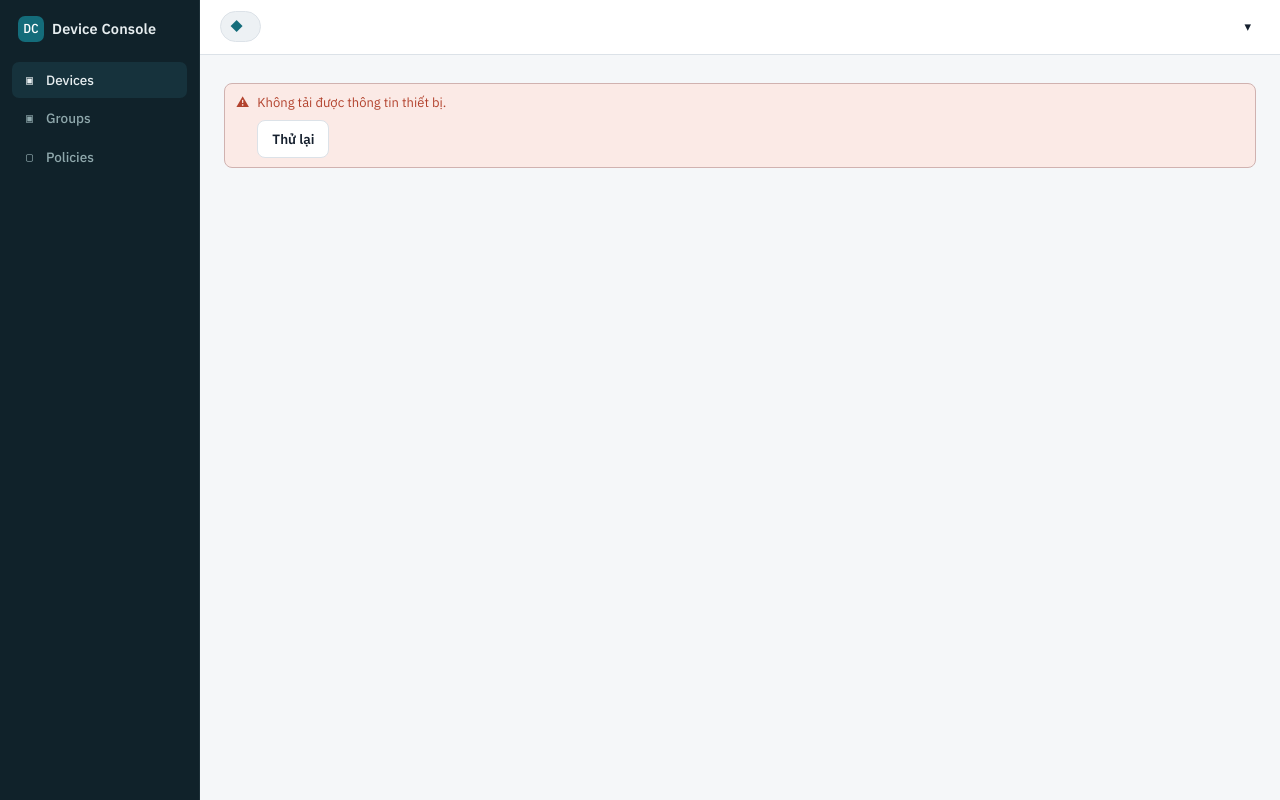
Test: DeviceDetailView › shows an error banner with retry for a non-404 failure, and retry reloads
Expected: the message "⚠ Không tải được thông tin thiết bị. Thử lại" is shown, [224,82,1256,168]
Click the button with test id "retry-button". click: (293, 139)
box: [257,120,329,158]
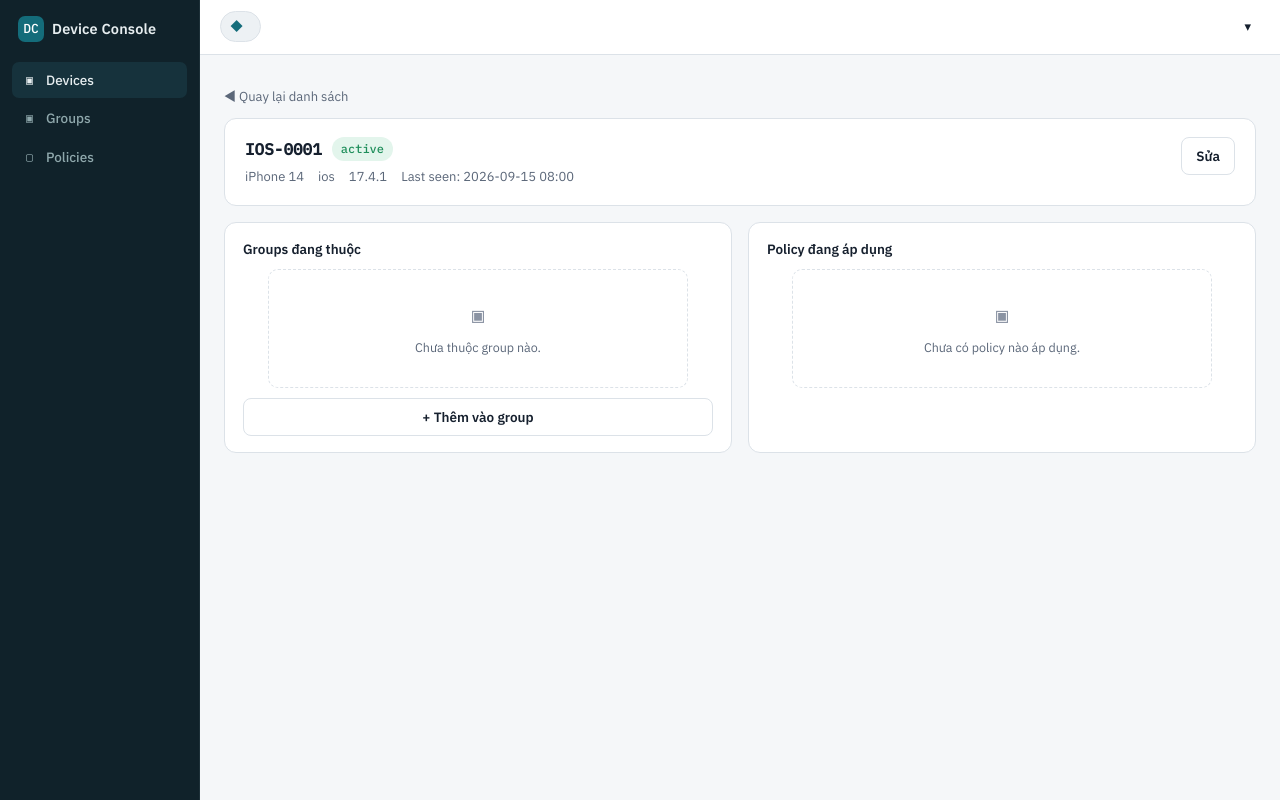
Expected: the text "IOS-0001" is shown, [245,137,322,161]
